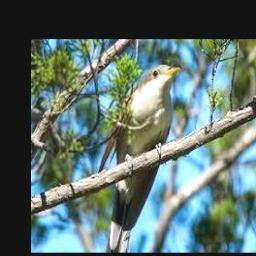Cuckoo: (97, 64, 182, 253)
